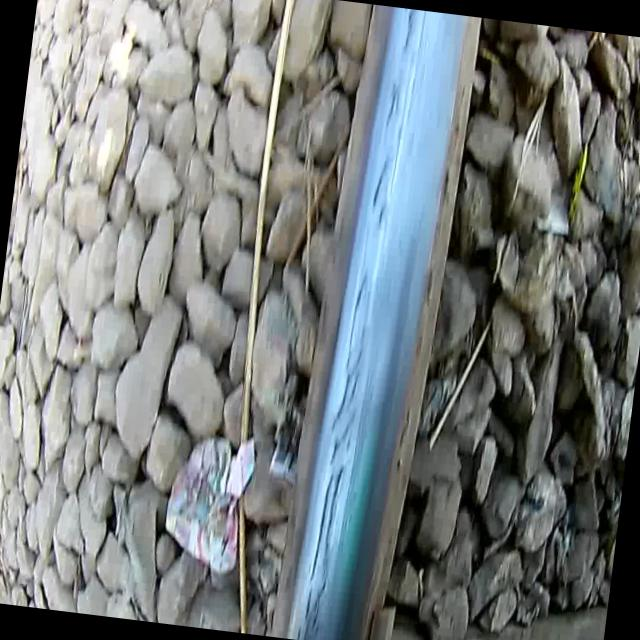Cracks: (292, 258, 377, 640), (364, 146, 395, 228), (380, 74, 404, 135), (396, 8, 416, 59)
Grooves: (328, 361, 381, 568), (384, 8, 430, 205)
